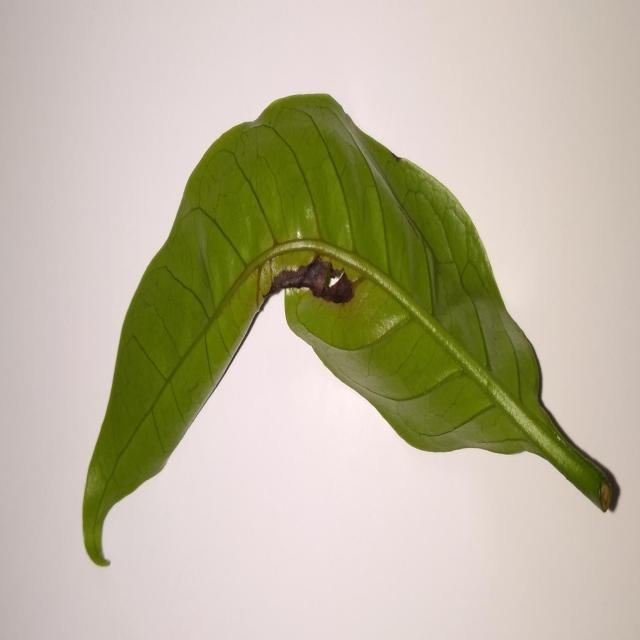Enfermedad-Antracnosis: (80, 94, 622, 570)
